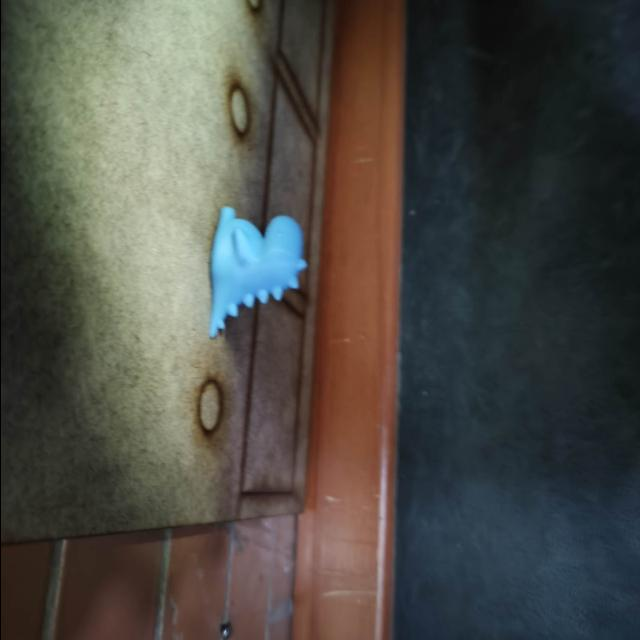DINO: (206, 192, 314, 352)
